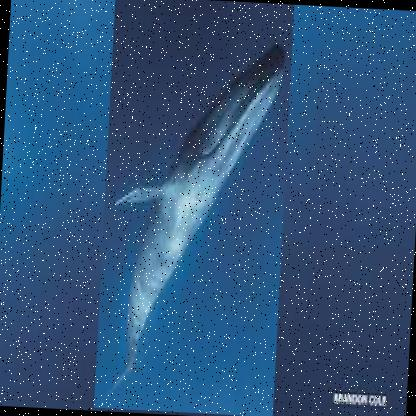blue_whale: (93, 0, 295, 415)
